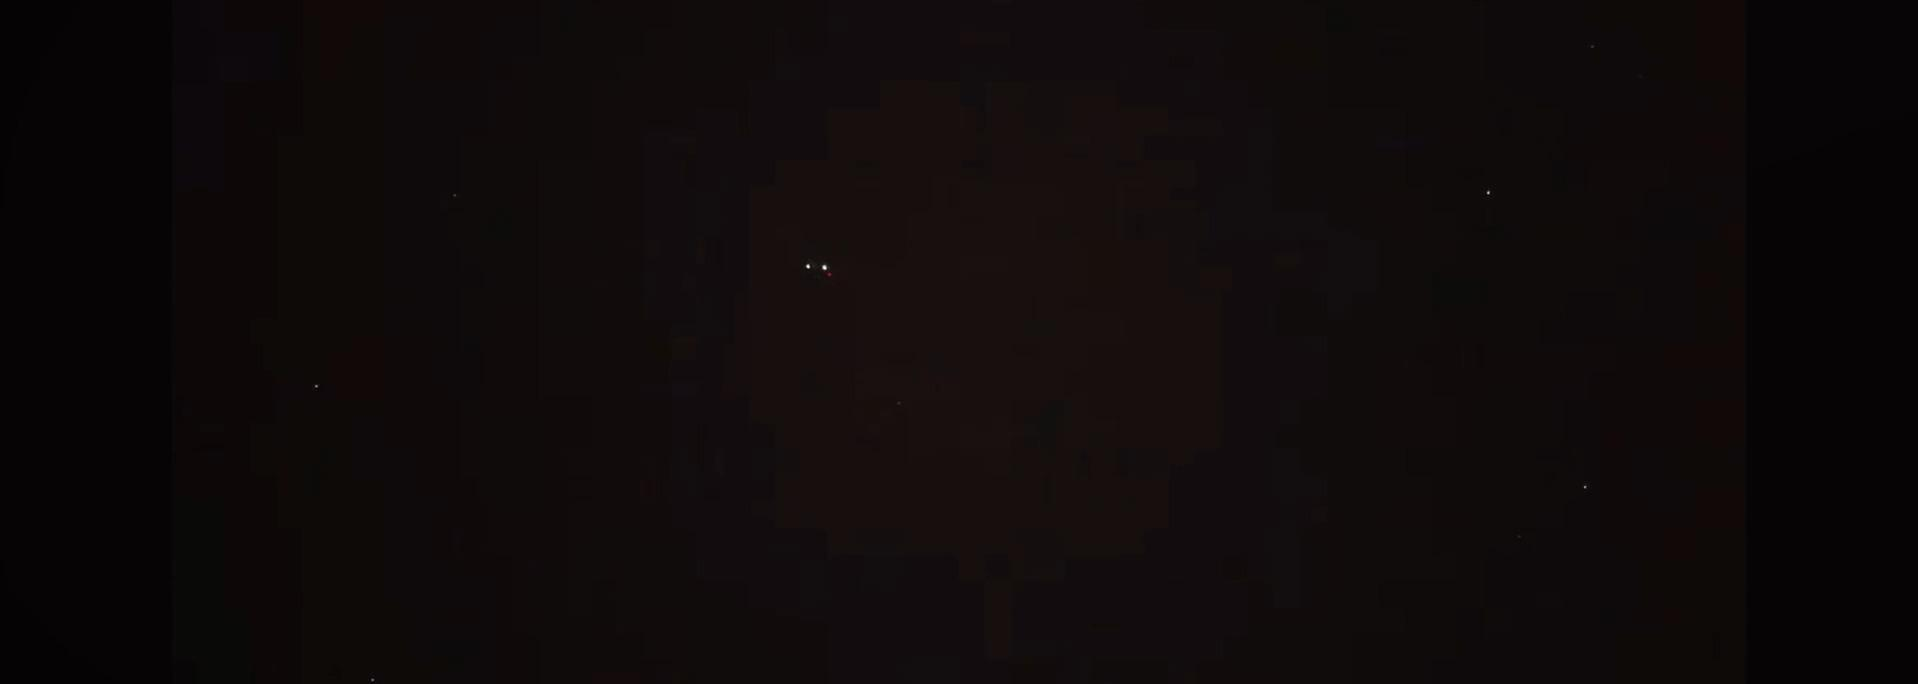Plane: (776, 252, 864, 288)
